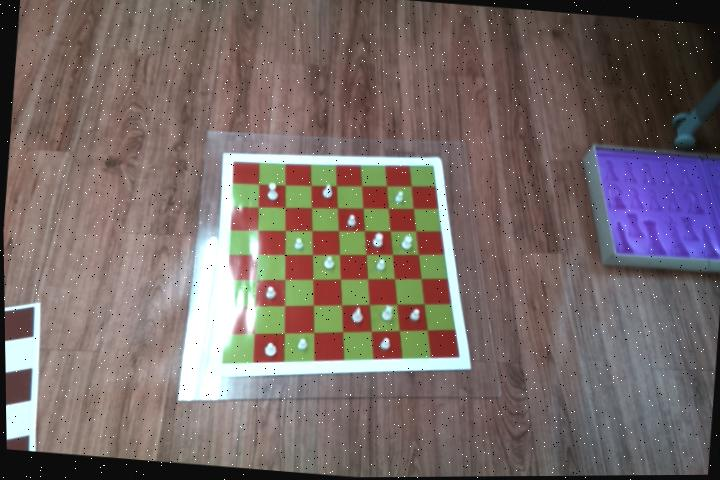chessboard-detect: (220, 161, 458, 364)
